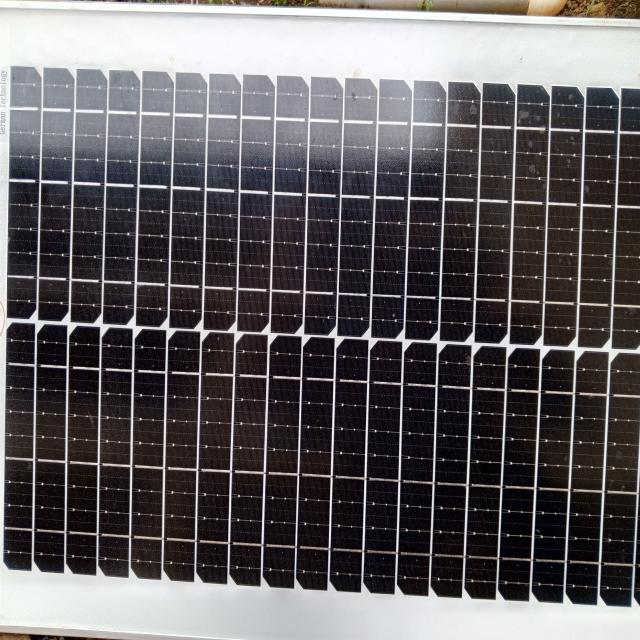Clean: (1, 42, 640, 620)
